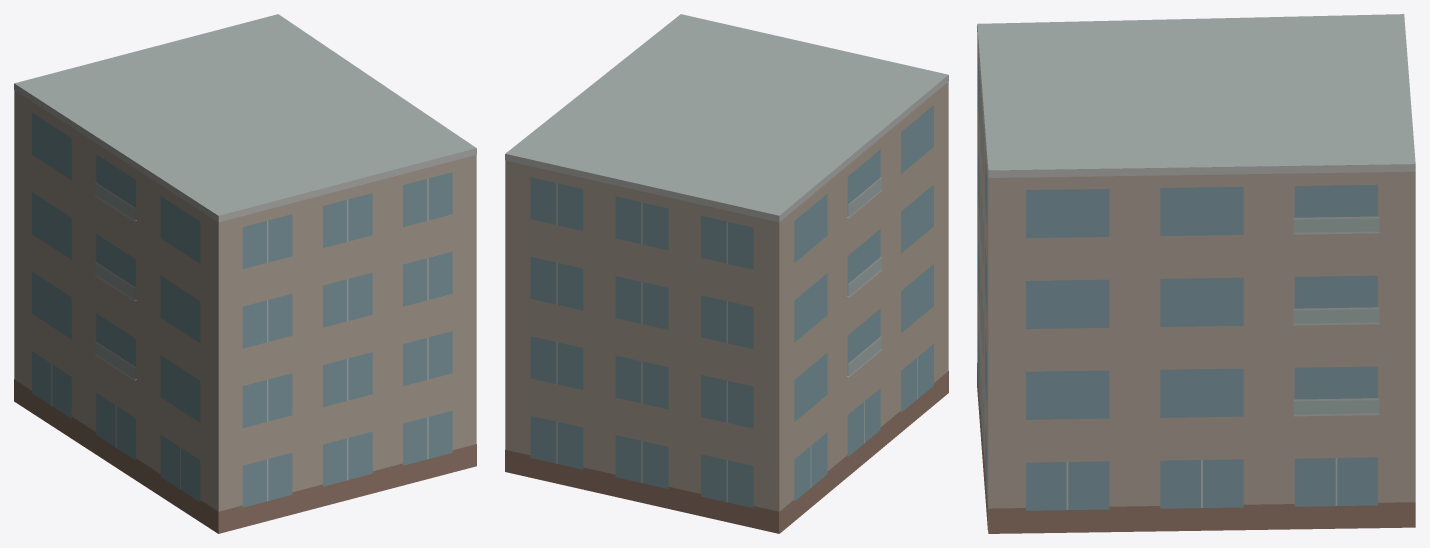
File: survey-upis-32734287.glb
3 views of the same model, side by side, from view 1: azimuth 30°, elevation 25°; view 2: azimuth 150°, elevation 25°; view 3: azimuth 270°, elevation 25° (orthographic). The views are drawn at different scales.
Parts seen in each view (by area): view 1: survey-upis-32734287.tmp; view 2: survey-upis-32734287.tmp; view 3: survey-upis-32734287.tmp.
Part boxes in pixels (bbox=[...]): survey-upis-32734287.tmp: bbox=[14, 14, 476, 533]; survey-upis-32734287.tmp: bbox=[505, 14, 948, 533]; survey-upis-32734287.tmp: bbox=[977, 14, 1415, 533].
Bounding box in the file's own units: 10.81 × 11.7 × 12.8.
